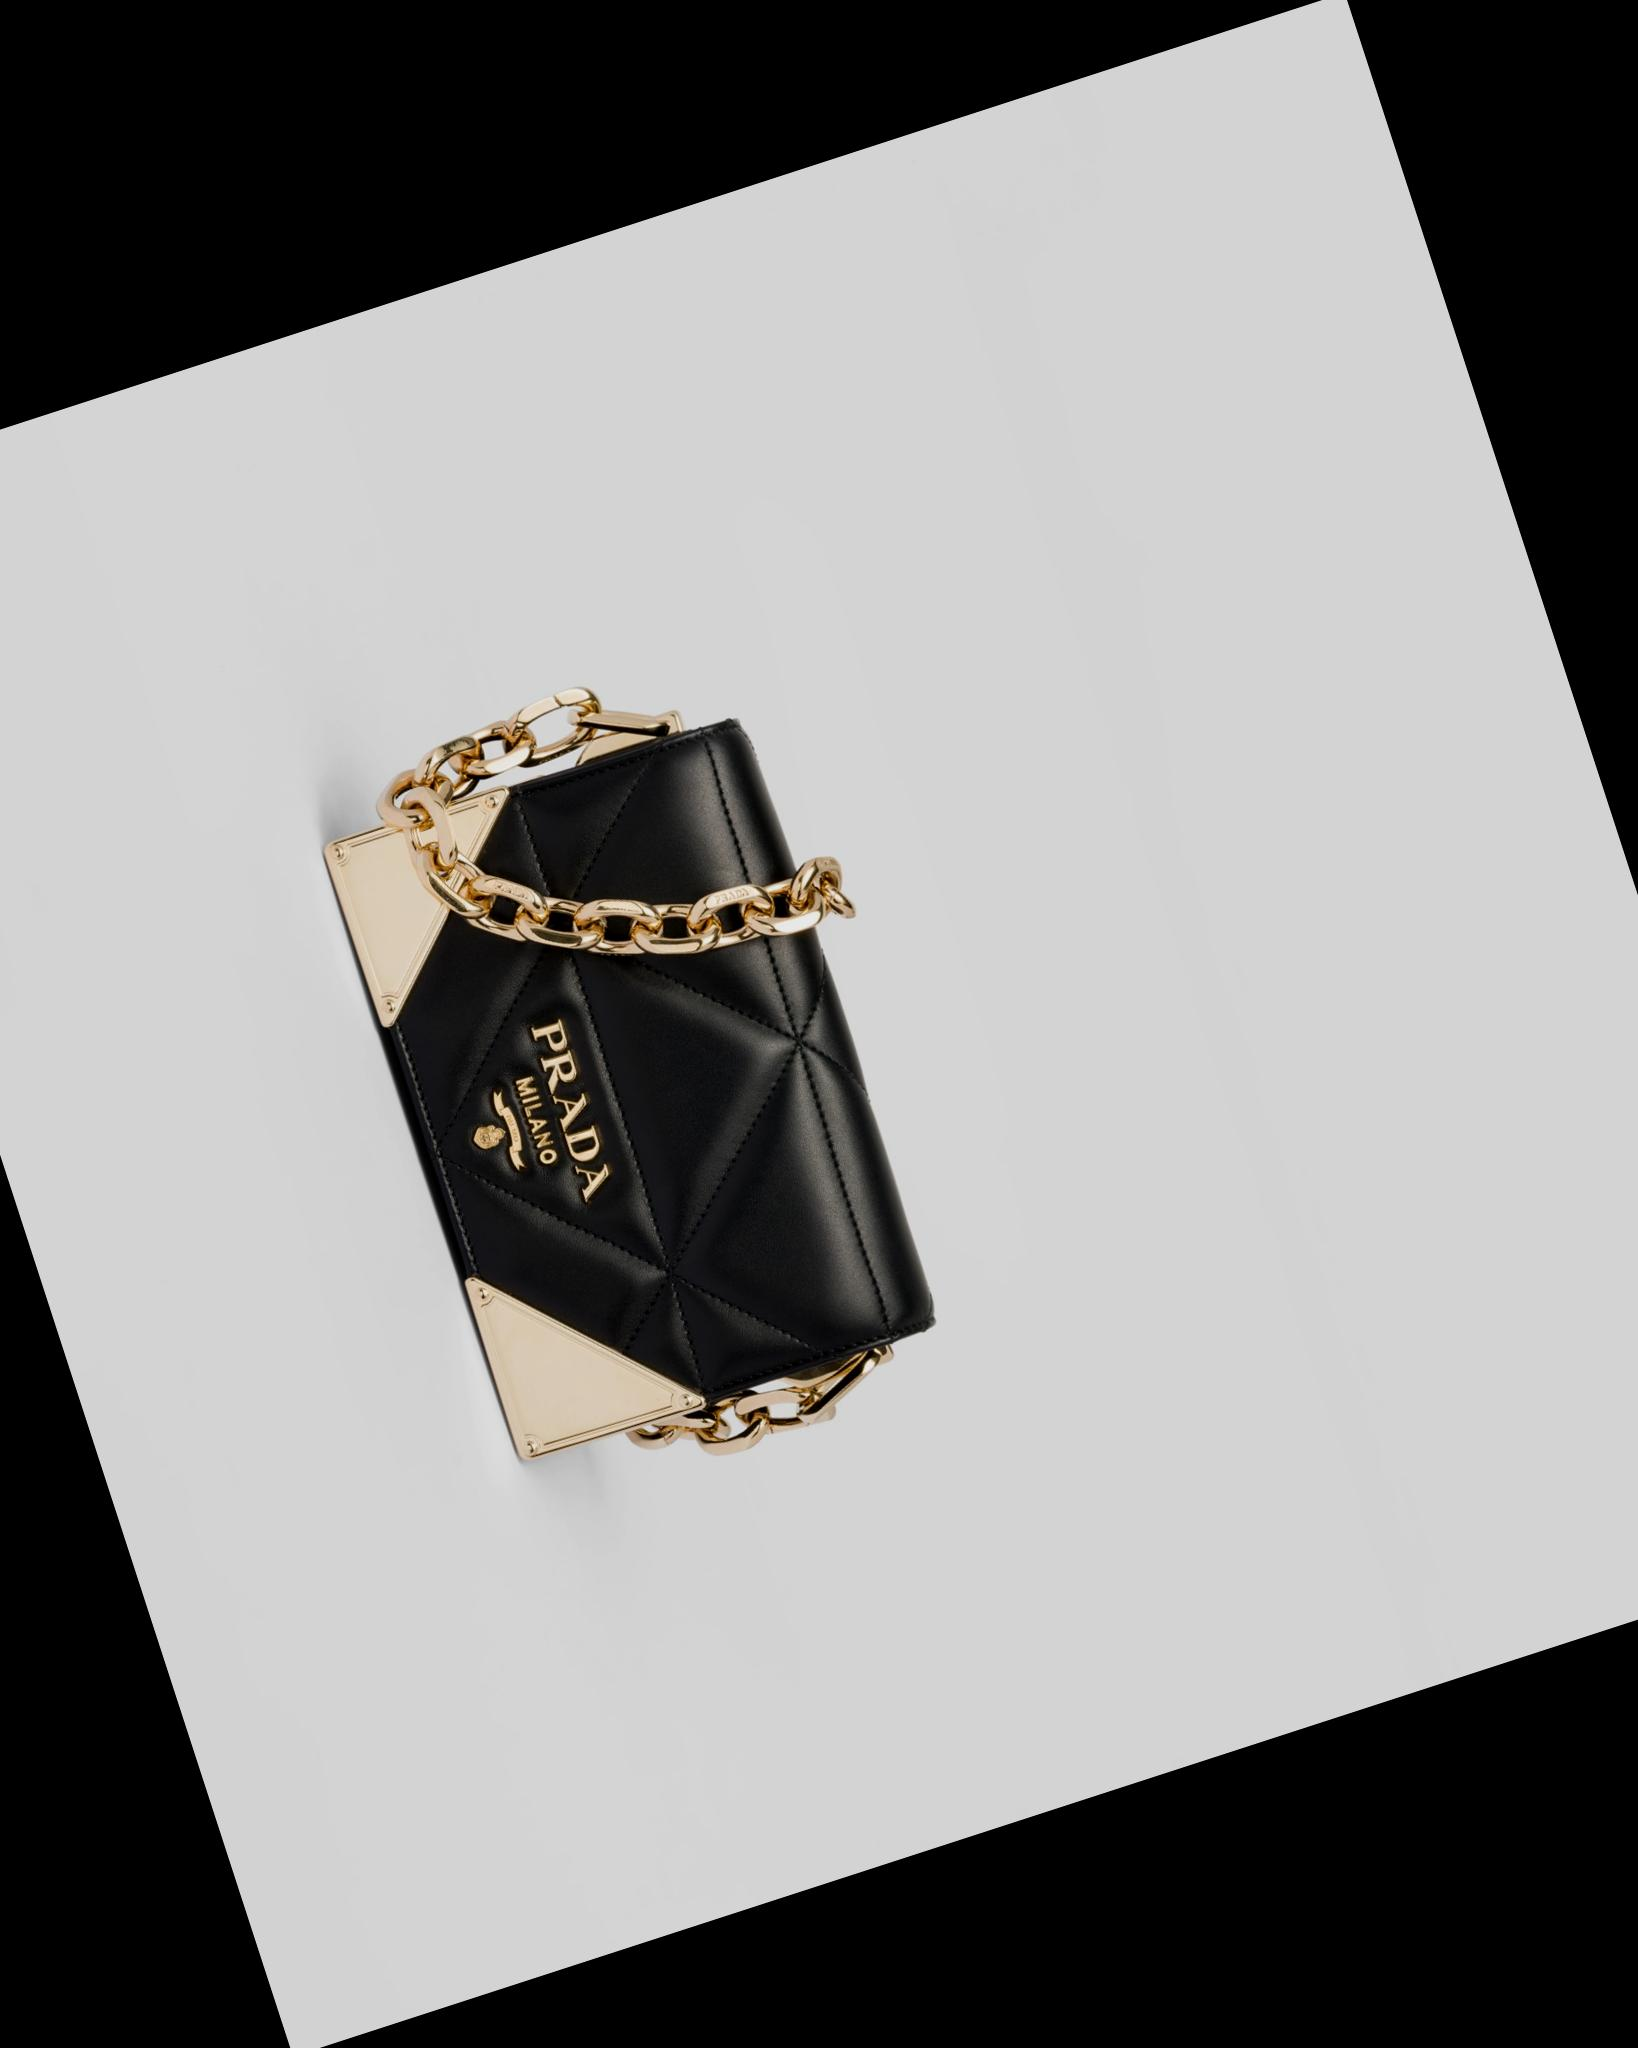PRADA: (378, 914, 674, 1331)
